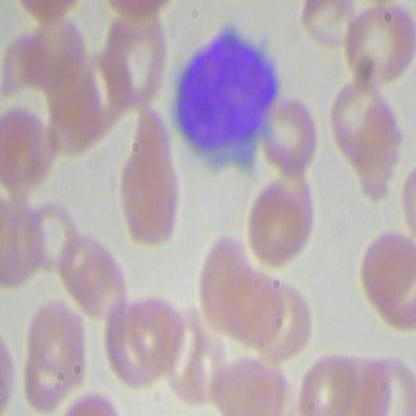RBC: (318, 79, 406, 204), (119, 103, 180, 247), (245, 177, 313, 273), (60, 229, 131, 320), (342, 1, 415, 85), (257, 98, 320, 179)
WBC: (162, 22, 290, 178)
